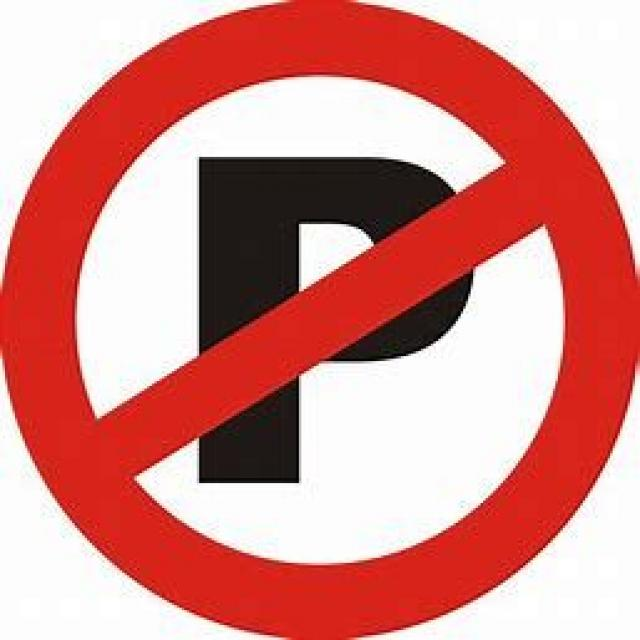NO_PARKING: (0, 0, 638, 638)
